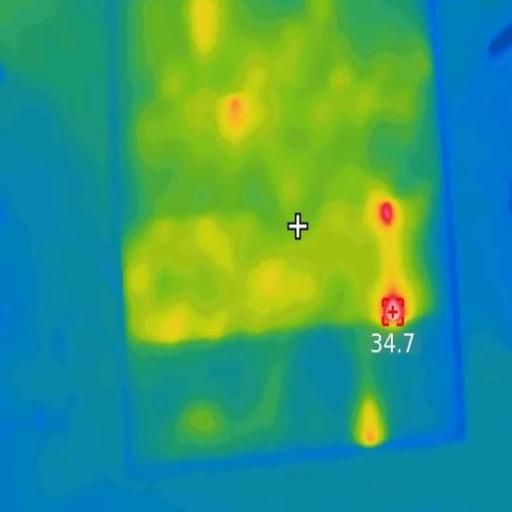hotspot: (380, 297, 408, 325), (378, 201, 400, 230)
